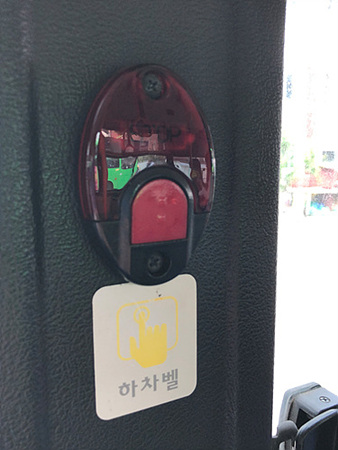bell: (74, 63, 217, 286)
